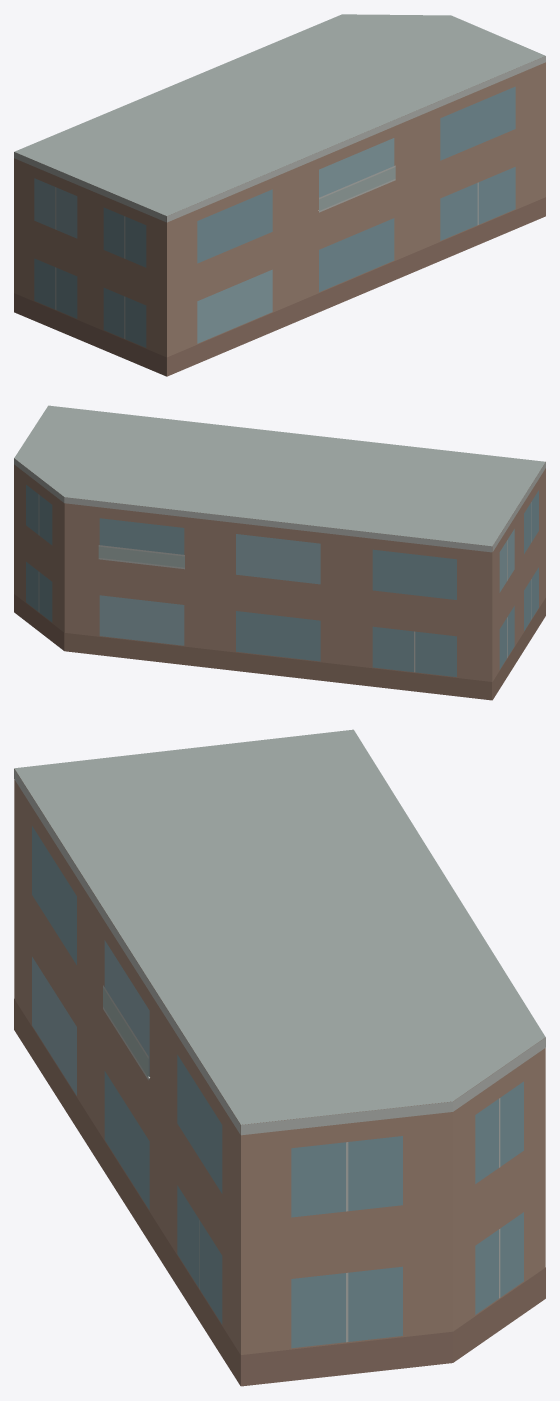
File: survey-upis-32712859.glb
The picture shows the model from 3 angles, top to bottom: view 1: azimuth 30°, elevation 25°; view 2: azimuth 150°, elevation 25°; view 3: azimuth 270°, elevation 25°; orthographic projection. The views are drawn at different scales.
Visible parts, largest first — view 1: survey-upis-32712859.tmp; view 2: survey-upis-32712859.tmp; view 3: survey-upis-32712859.tmp.
Part boxes in pixels (left/top/right/bottom): survey-upis-32712859.tmp: left=14, top=14, right=545, bottom=376; survey-upis-32712859.tmp: left=14, top=405, right=545, bottom=700; survey-upis-32712859.tmp: left=14, top=729, right=545, bottom=1386.
Bounding box in the file's own units: 19.79 × 6.1 × 11.25.
